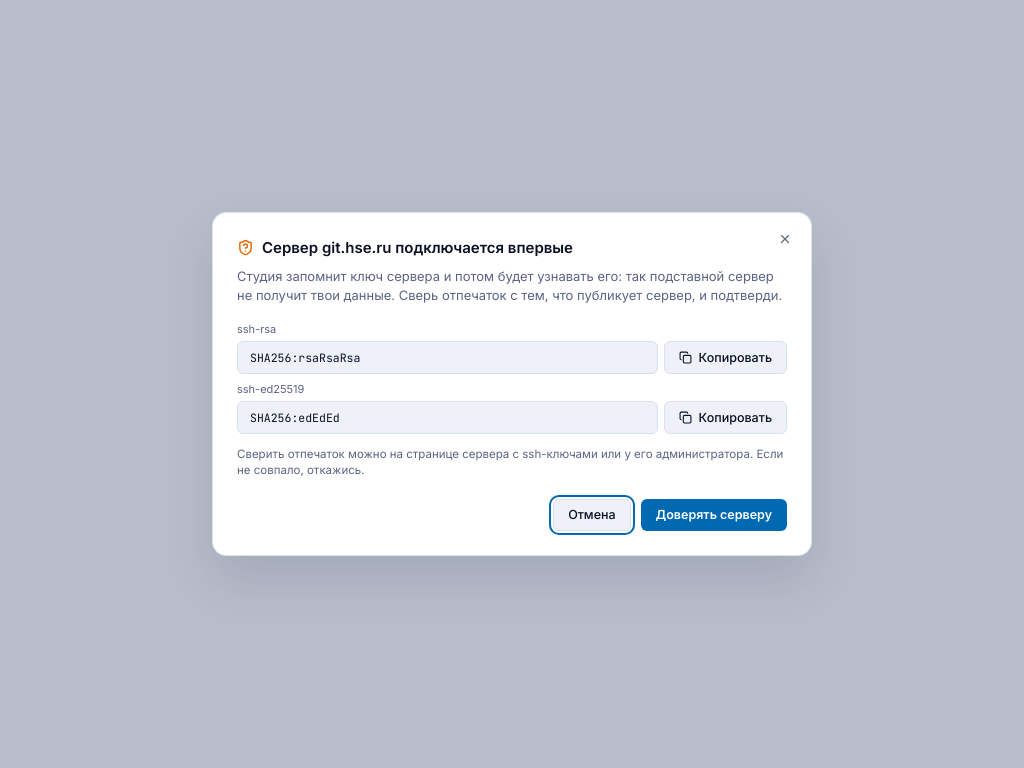
HostKeyDialog: незнакомый сервер › сбой записи показан в окне и не закрывает его
The image size is (1024, 768).
What coordinates should you click on to do the following:
click the button "Доверять серверу"
I would click on:
 (714, 515)
Its box is top-left (641, 499), bottom-right (787, 531).
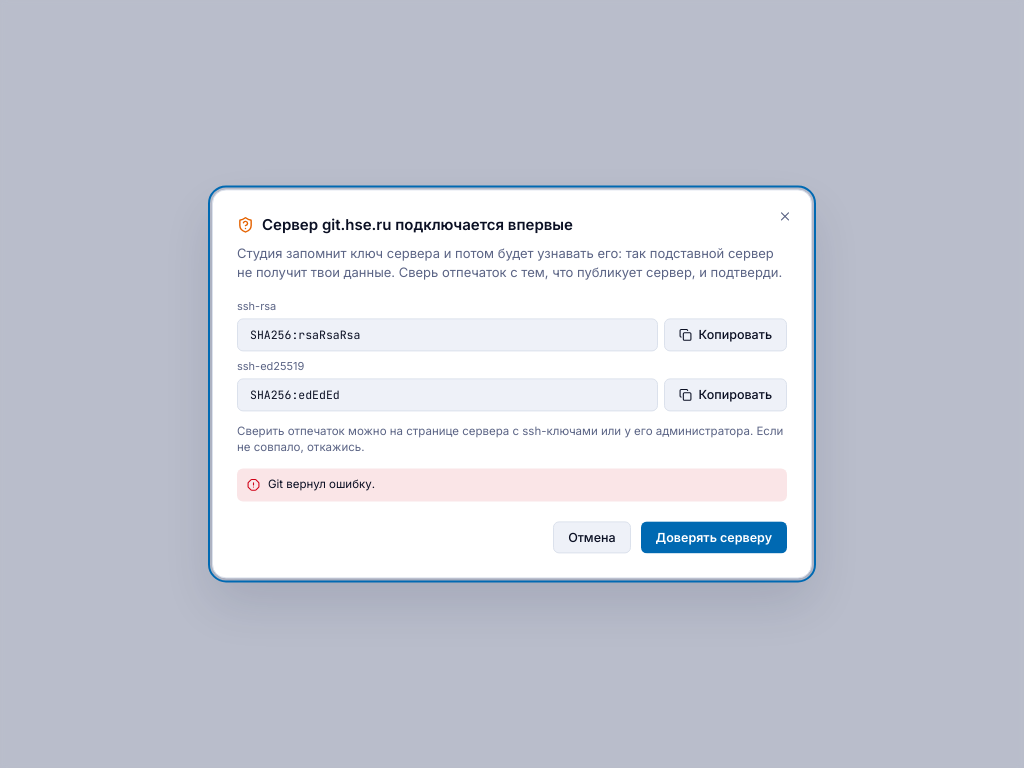
expect the message shows "Git вернул ошибку": met, box top-left (268, 477), bottom-right (375, 491)
